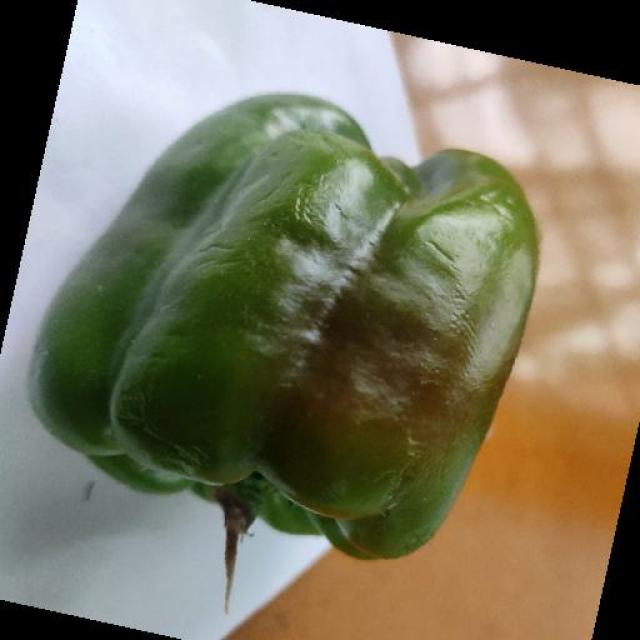Stale_Capsicum: (158, 148, 484, 516)
